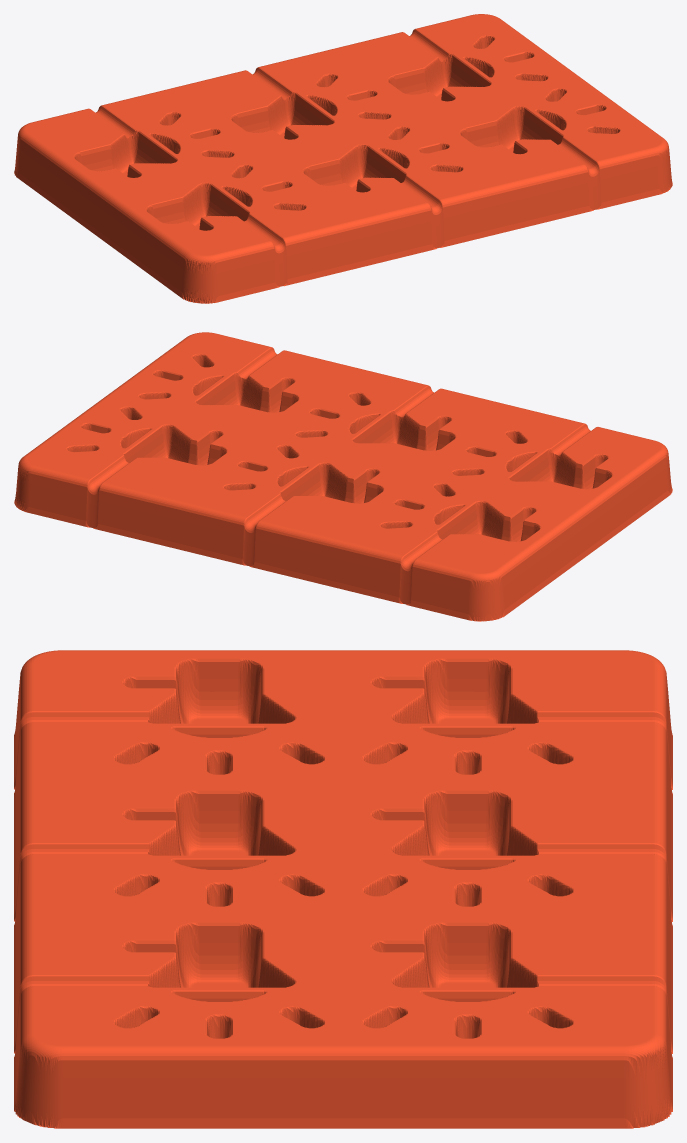
File: mold.glb
3 views of the same model, one above another, from view 1: azimuth 30°, elevation 25°; view 2: azimuth 150°, elevation 25°; view 3: azimuth 270°, elevation 25° (orthographic). The views are drawn at different scales.
Parts seen in each view (by area): view 1: geometry_0; view 2: geometry_0; view 3: geometry_0.
Boxes of the visible parts, x1=… form: geometry_0: x1=14, y1=14, x2=672, y2=303; geometry_0: x1=14, y1=332, x2=672, y2=621; geometry_0: x1=14, y1=650, x2=672, y2=1128.
Bounding box in the file's own units: 0.1824 × 0.0155 × 0.1238.
